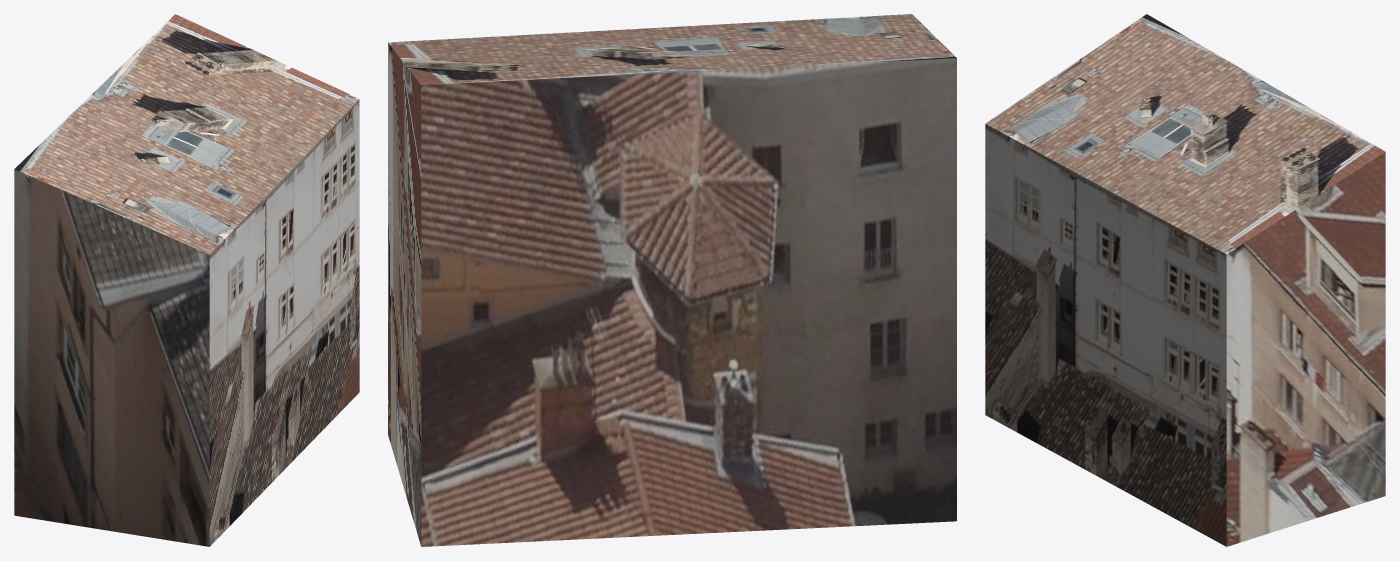
The picture shows the model from 3 angles, left to right: view 1: azimuth 30°, elevation 25°; view 2: azimuth 150°, elevation 25°; view 3: azimuth 270°, elevation 25°; orthographic projection. The views are drawn at different scales.
Visible parts, largest first — view 1: Z_UP; view 2: Z_UP; view 3: Z_UP.
Part boxes in pixels (bbox=[...]): Z_UP: bbox=[14, 14, 359, 546]; Z_UP: bbox=[388, 14, 956, 546]; Z_UP: bbox=[985, 14, 1385, 546].
Bounding box in the file's own units: 17.6 × 15.12 × 15.88.
Materials: 2 (1 with a texture image).
